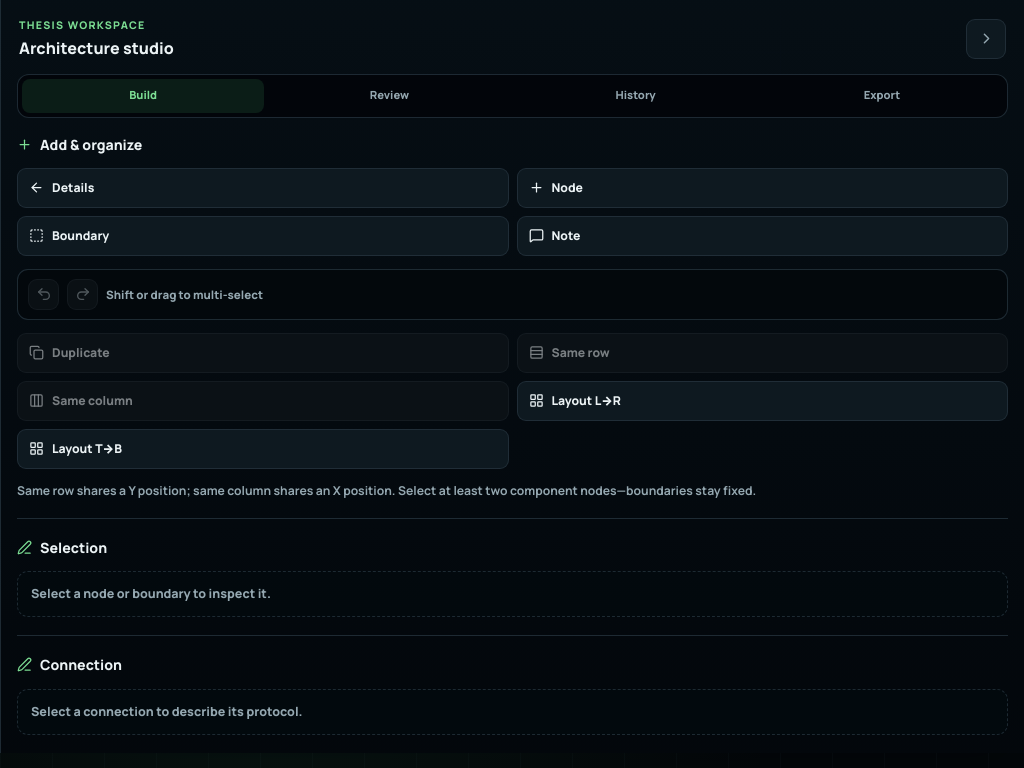
Scenario: DiagramEditorPanel history › filters version history between manual and automatic saves
This screenshot has width=1024, height=768.
Click the button "History".
click(636, 96)  # box left=514, top=79, right=757, bottom=113
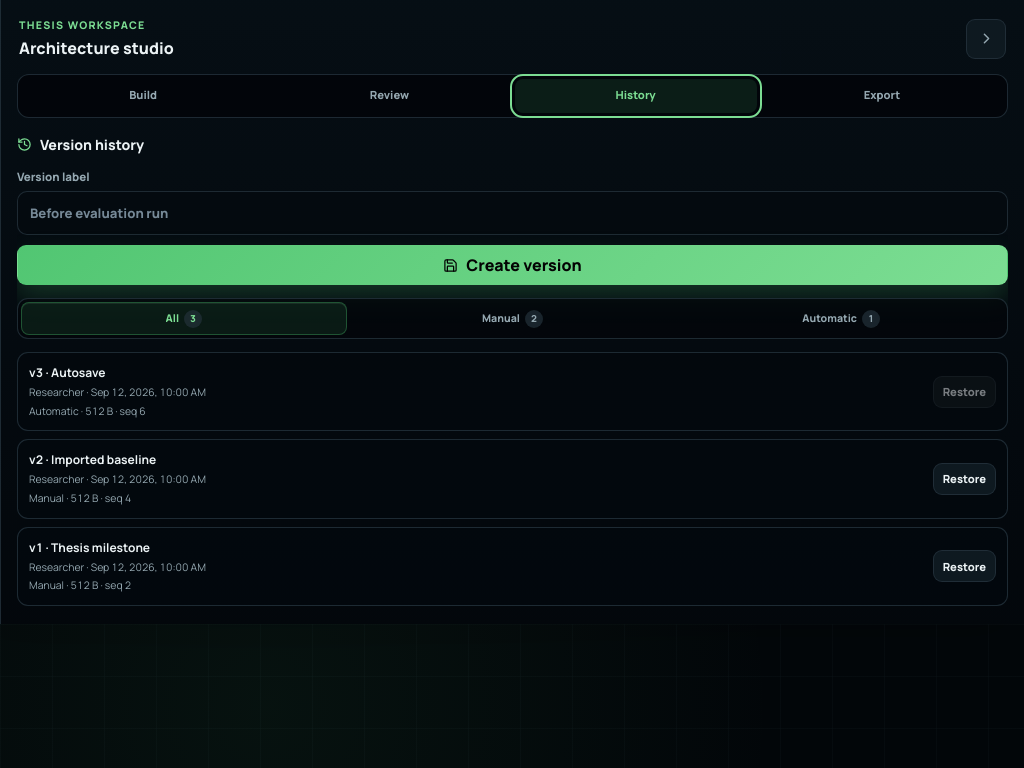
Result: the text "v3 · Autosave" is shown at left=29, top=364, right=106, bottom=381
Result: the text "v2 · Imported baseline" is shown at left=29, top=451, right=156, bottom=468
Result: the text "v1 · Thesis milestone" is shown at left=29, top=539, right=150, bottom=556
Click the button with aria-label "Manual: 2 versions".
click(513, 319)  # box left=350, top=302, right=675, bottom=335
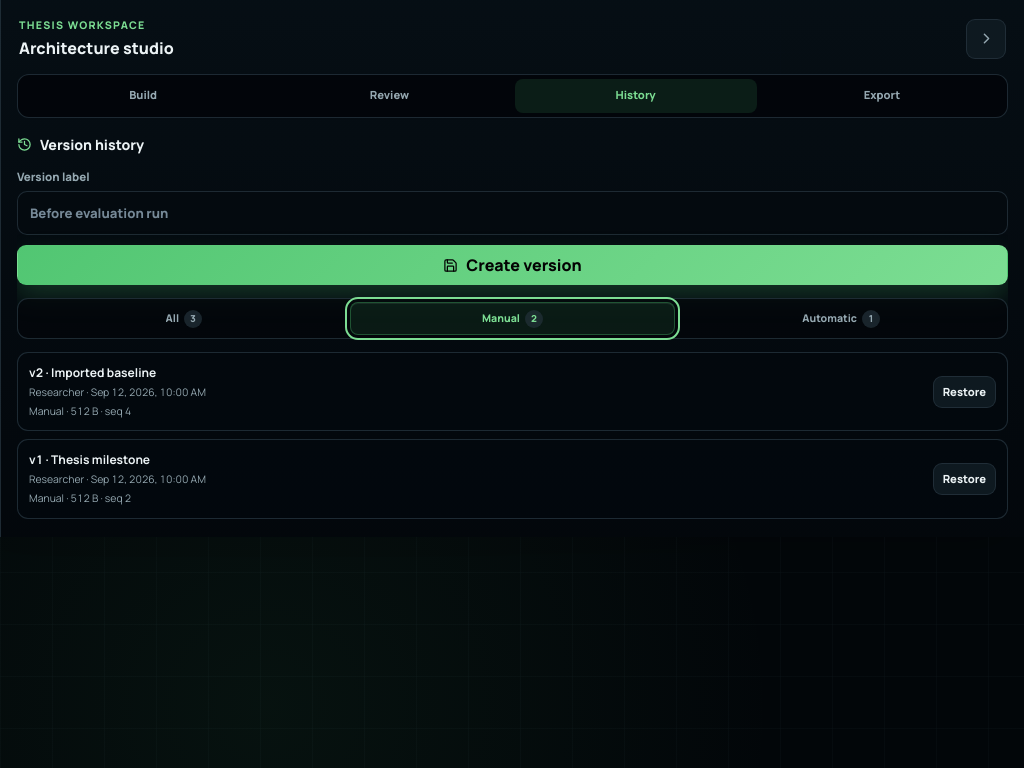
Result: the text "v2 · Imported baseline" is shown at left=29, top=364, right=156, bottom=381
Result: the text "v1 · Thesis milestone" is shown at left=29, top=451, right=150, bottom=468
Result: the text "Autosave" is gone
Click the button with aria-label "Automatic: 1 version".
click(841, 319)  # box left=678, top=302, right=1004, bottom=335
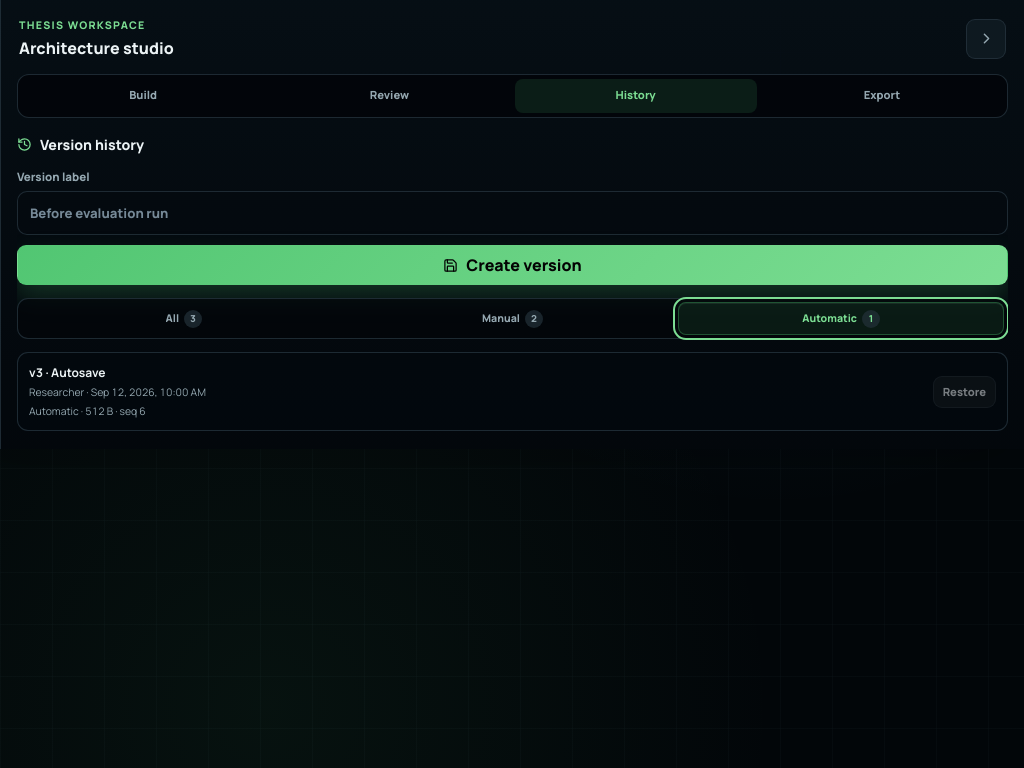
Result: the text "v3 · Autosave" is shown at left=29, top=364, right=106, bottom=381
Result: the text "Imported baseline" is gone
Result: the text "Thesis milestone" is gone
